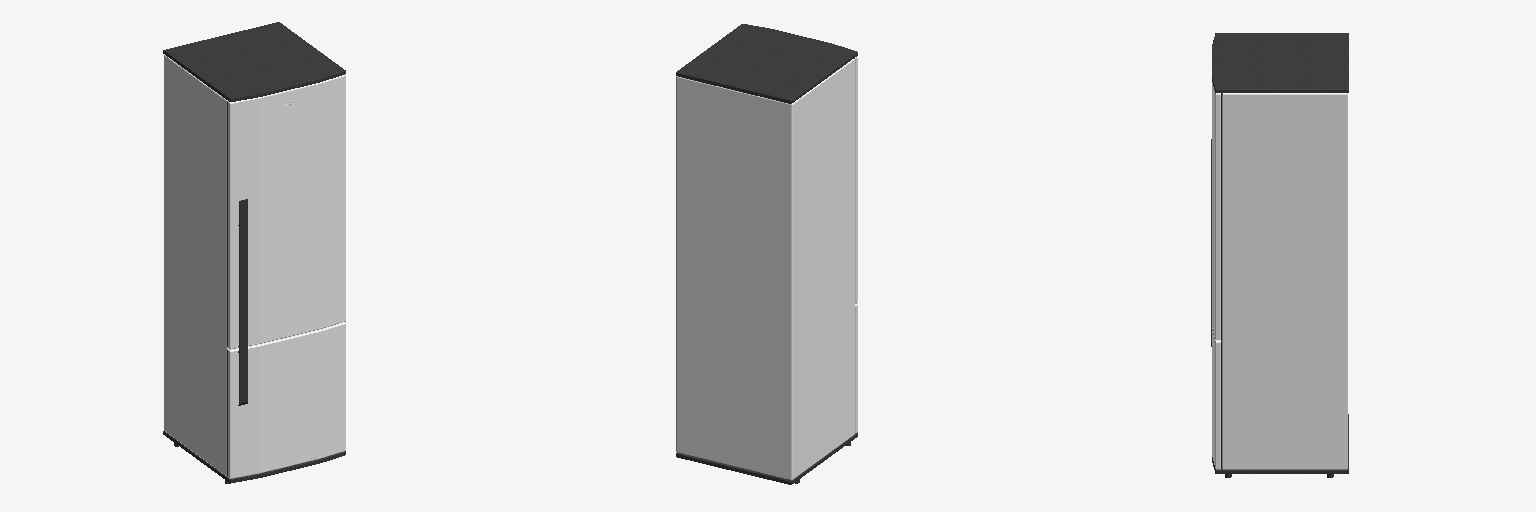
The picture shows the model from 3 angles: view 1: azimuth 30°, elevation 25°; view 2: azimuth 150°, elevation 25°; view 3: azimuth 270°, elevation 25°; orthographic projection.
Parts seen in each view (by area): view 1: fridge; view 2: fridge; view 3: fridge.
Boxes of the visible parts, box(x1,y1,x2,y2) form: fridge: box(163, 22, 345, 483); fridge: box(676, 24, 857, 484); fridge: box(1211, 33, 1348, 477).
Size of the model in its own units: 0.8595 by 2.75 by 0.8855.
5 materials, 1 textured.